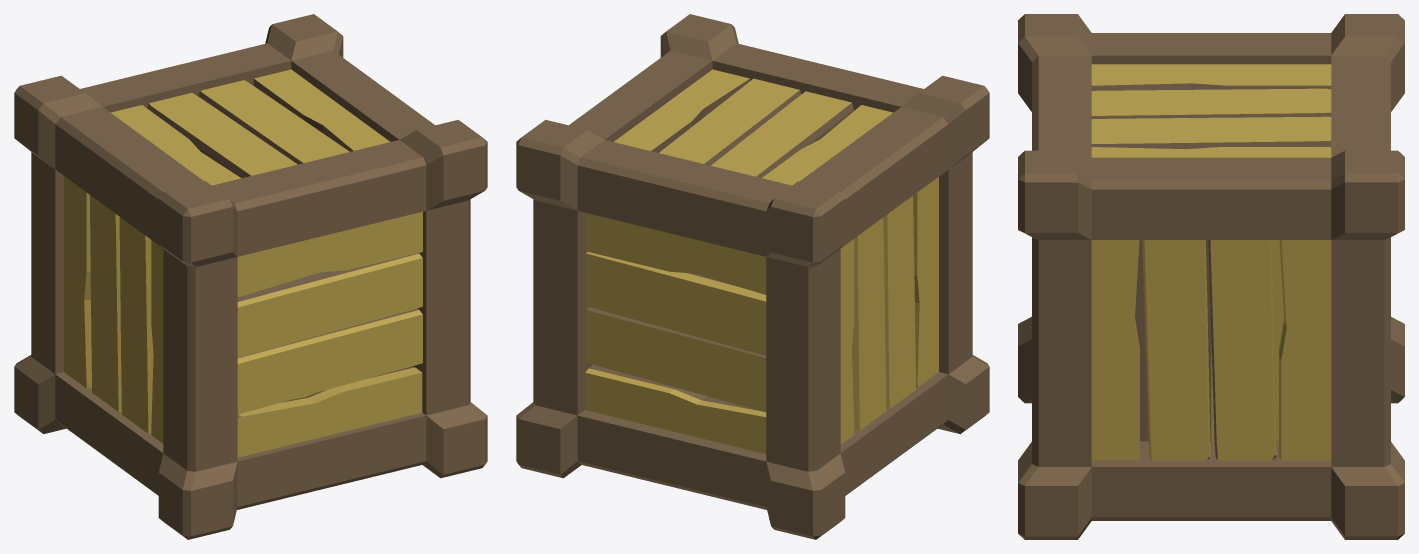
Rendered from PierBox.fbx.
3 views of the same model, side by side, from view 1: azimuth 30°, elevation 25°; view 2: azimuth 150°, elevation 25°; view 3: azimuth 270°, elevation 25° (orthographic). The views are drawn at different scales.
Parts seen in each view (by area): view 1: Plane.044; view 2: Plane.044; view 3: Plane.044.
Boxes of the visible parts, box(x1,y1,x2,y2) form: Plane.044: box(14, 14, 487, 539); Plane.044: box(516, 14, 989, 539); Plane.044: box(1018, 14, 1404, 539).
Bounding box in the file's own units: 156 × 162 × 154.
